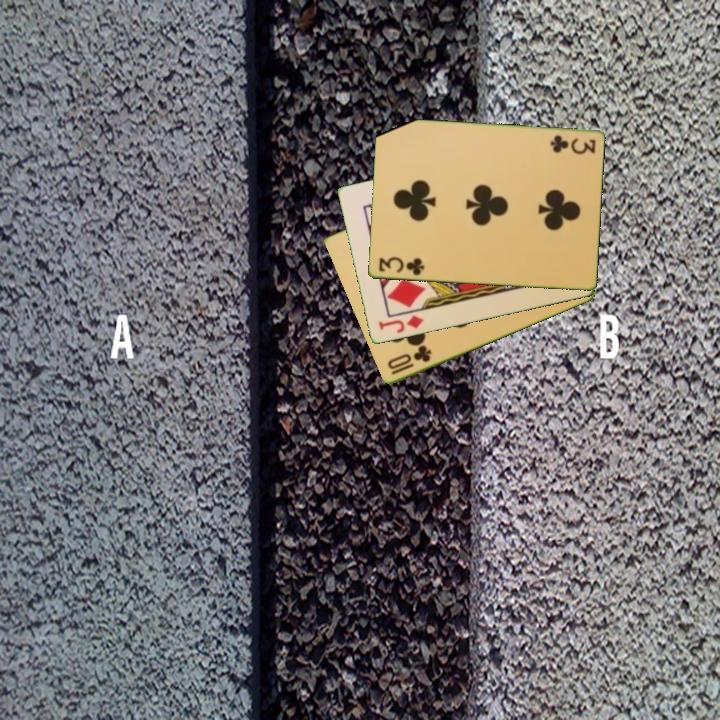10c: (384, 342, 434, 378)
3c: (375, 253, 426, 278), (546, 132, 598, 155)
Jd: (375, 312, 426, 337)
